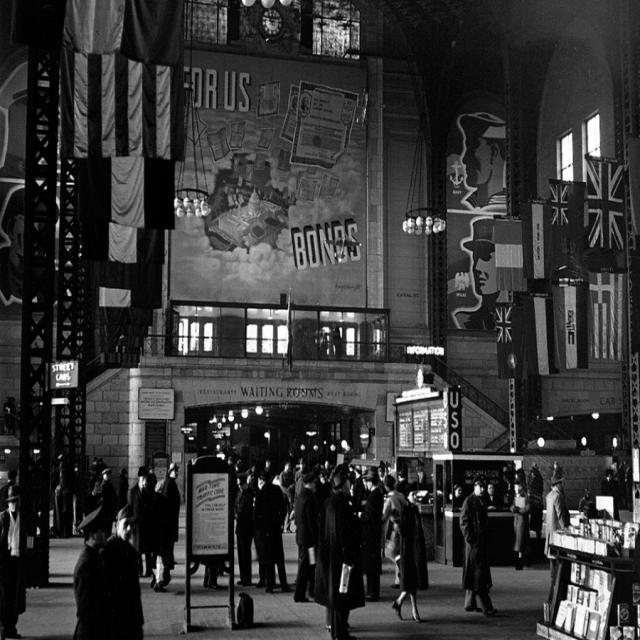body: (0, 51, 68, 309), (448, 101, 522, 333), (311, 460, 370, 639), (70, 500, 129, 639), (95, 500, 149, 639), (458, 469, 502, 619), (391, 482, 430, 624), (251, 469, 295, 593), (0, 481, 31, 639), (543, 465, 572, 606), (358, 468, 385, 603), (293, 471, 319, 604), (151, 459, 183, 566), (380, 473, 407, 593), (128, 466, 154, 580), (233, 471, 256, 589), (292, 321, 351, 365), (140, 472, 162, 580), (413, 461, 464, 507), (48, 451, 72, 542), (508, 479, 530, 572), (214, 442, 279, 470), (610, 455, 637, 518), (81, 476, 104, 547), (294, 465, 312, 548), (278, 459, 296, 535), (99, 468, 119, 536), (293, 455, 310, 530), (346, 462, 368, 518), (258, 538, 282, 589), (600, 468, 622, 522), (528, 464, 544, 538), (314, 457, 336, 503), (370, 459, 395, 499), (198, 561, 230, 589), (0, 464, 18, 513), (393, 467, 413, 499), (116, 466, 129, 515), (86, 456, 105, 486), (483, 481, 500, 513), (577, 485, 594, 513), (258, 469, 282, 488), (552, 460, 563, 480), (246, 466, 256, 484), (528, 468, 533, 494), (533, 461, 538, 467)
